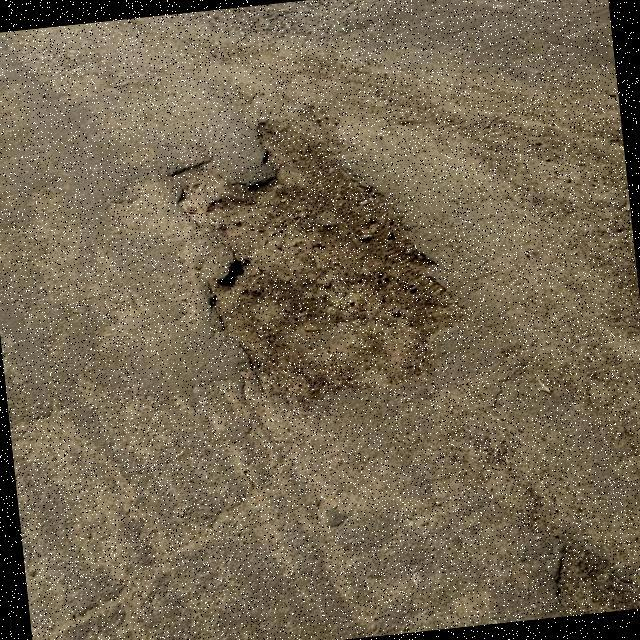Pothole: (166, 122, 463, 404)
